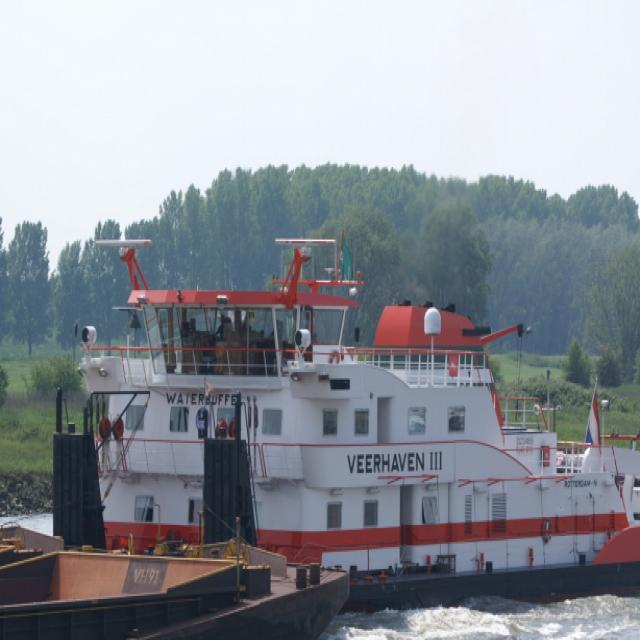tugboat: (45, 233, 640, 619)
